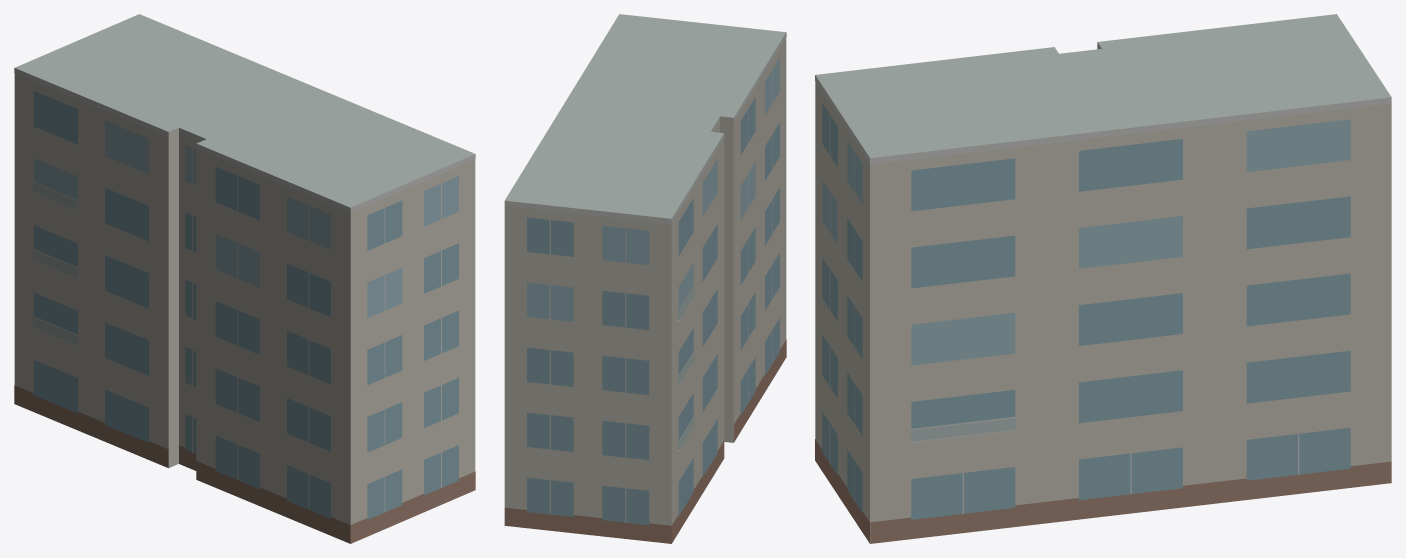
The model's file is survey-upis-32620517.glb.
3 views of the same model, side by side, from view 1: azimuth 30°, elevation 25°; view 2: azimuth 150°, elevation 25°; view 3: azimuth 270°, elevation 25° (orthographic). The views are drawn at different scales.
Visible parts, largest first — view 1: survey-upis-32620517.tmp; view 2: survey-upis-32620517.tmp; view 3: survey-upis-32620517.tmp.
Boxes of the visible parts, x1,y1,x2,y2 form: survey-upis-32620517.tmp: [14, 14, 475, 543]; survey-upis-32620517.tmp: [504, 14, 786, 543]; survey-upis-32620517.tmp: [815, 14, 1391, 543].
Size of the model in its own units: 12.24 by 15.25 by 20.67.
